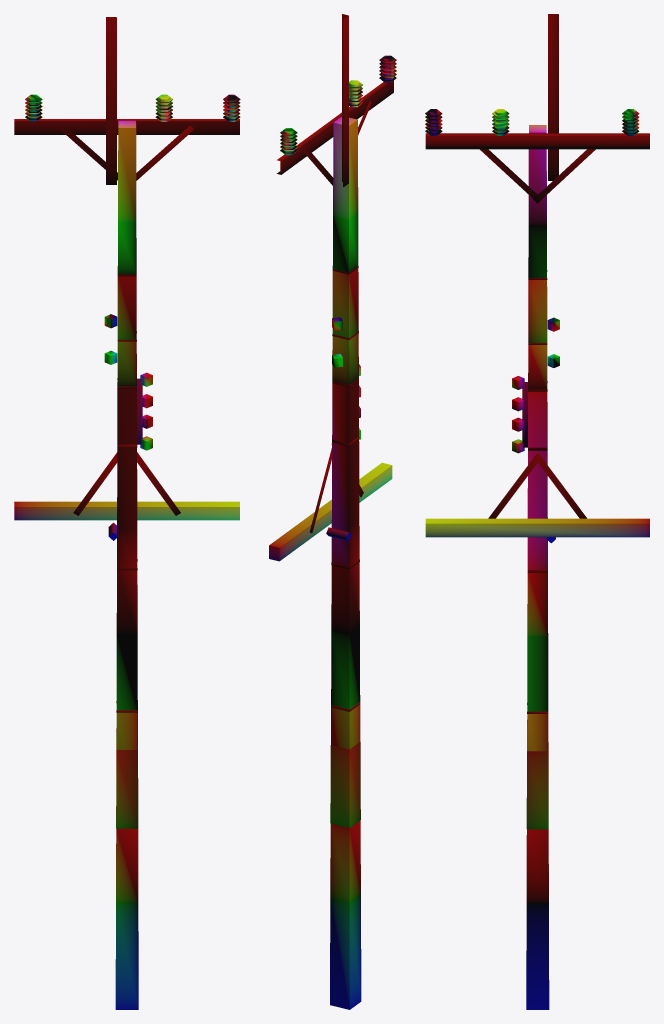
File: Powerpole_Square.fbx
The picture shows the model from 3 angles, left to right: view 1: azimuth 90°, elevation 25°; view 2: azimuth 150°, elevation 25°; view 3: azimuth 270°, elevation 25°; orthographic projection.
Visible parts, largest first — view 1: Powerpole_Square_Concrete, Powerpole_Square_Metal, Powerpole_Square_Plastic, Powerpole_Square_Stripes; view 2: Powerpole_Square_Concrete, Powerpole_Square_Metal, Powerpole_Square_Stripes, Powerpole_Square_Plastic; view 3: Powerpole_Square_Concrete, Powerpole_Square_Metal, Powerpole_Square_Plastic, Powerpole_Square_Stripes.
Part boxes in pixels (box(x1,y1,x2,y2)): Powerpole_Square_Concrete: box(14, 120, 239, 1009); Powerpole_Square_Metal: box(14, 17, 239, 712); Powerpole_Square_Plastic: box(25, 94, 240, 450); Powerpole_Square_Stripes: box(116, 750, 138, 828); Powerpole_Square_Concrete: box(269, 116, 392, 1009); Powerpole_Square_Metal: box(277, 14, 393, 711); Powerpole_Square_Stripes: box(330, 742, 360, 827); Powerpole_Square_Plastic: box(280, 55, 396, 439); Powerpole_Square_Concrete: box(425, 125, 649, 1009); Powerpole_Square_Metal: box(425, 14, 649, 713); Powerpole_Square_Plastic: box(425, 109, 639, 453); Powerpole_Square_Stripes: box(526, 742, 548, 829).
Bounding box in the file's own units: 0.3788 × 11.97 × 2.47.
